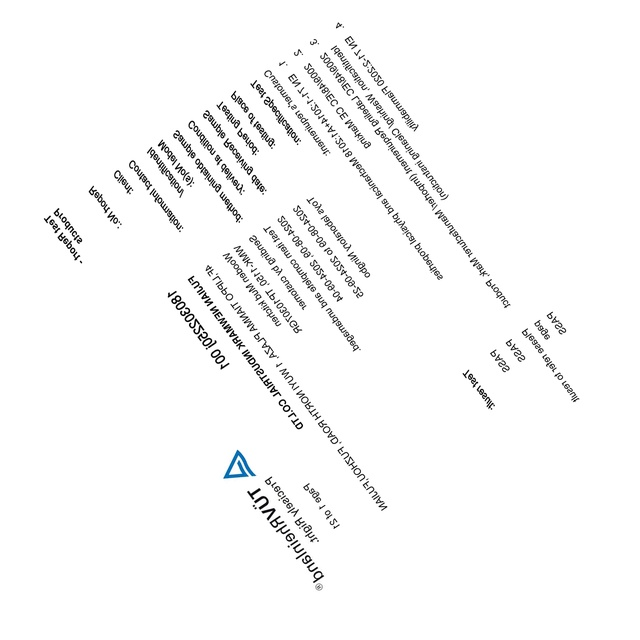tuv_rheinland: (223, 448, 323, 599)
